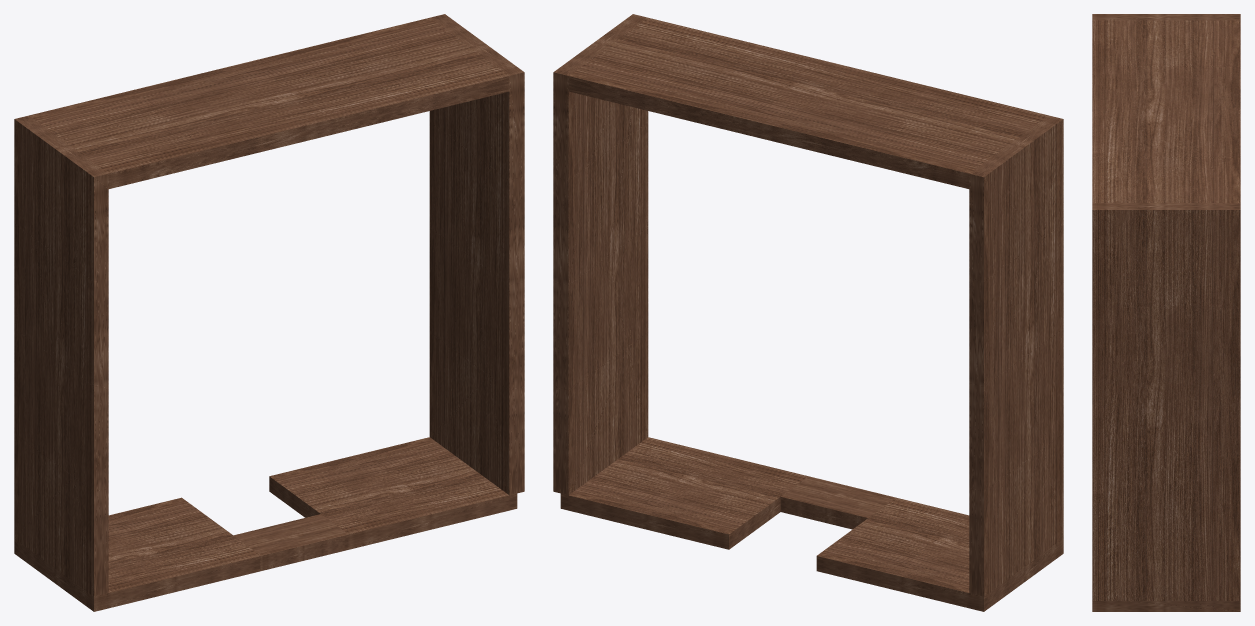
Rendered from classroom.obj.
3 views of the same model, side by side, from view 1: azimuth 30°, elevation 25°; view 2: azimuth 150°, elevation 25°; view 3: azimuth 270°, elevation 25° (orthographic). The views are drawn at different scales.
Parts seen in each view (by area): view 1: Object.1; view 2: Object.1; view 3: Object.1.
Boxes of the visible parts, x1=… form: Object.1: x1=14, y1=14, x2=524, y2=611; Object.1: x1=553, y1=14, x2=1063, y2=611; Object.1: x1=1092, y1=14, x2=1240, y2=611.
Bounding box in the file's own units: 153 × 148 × 48.97.
